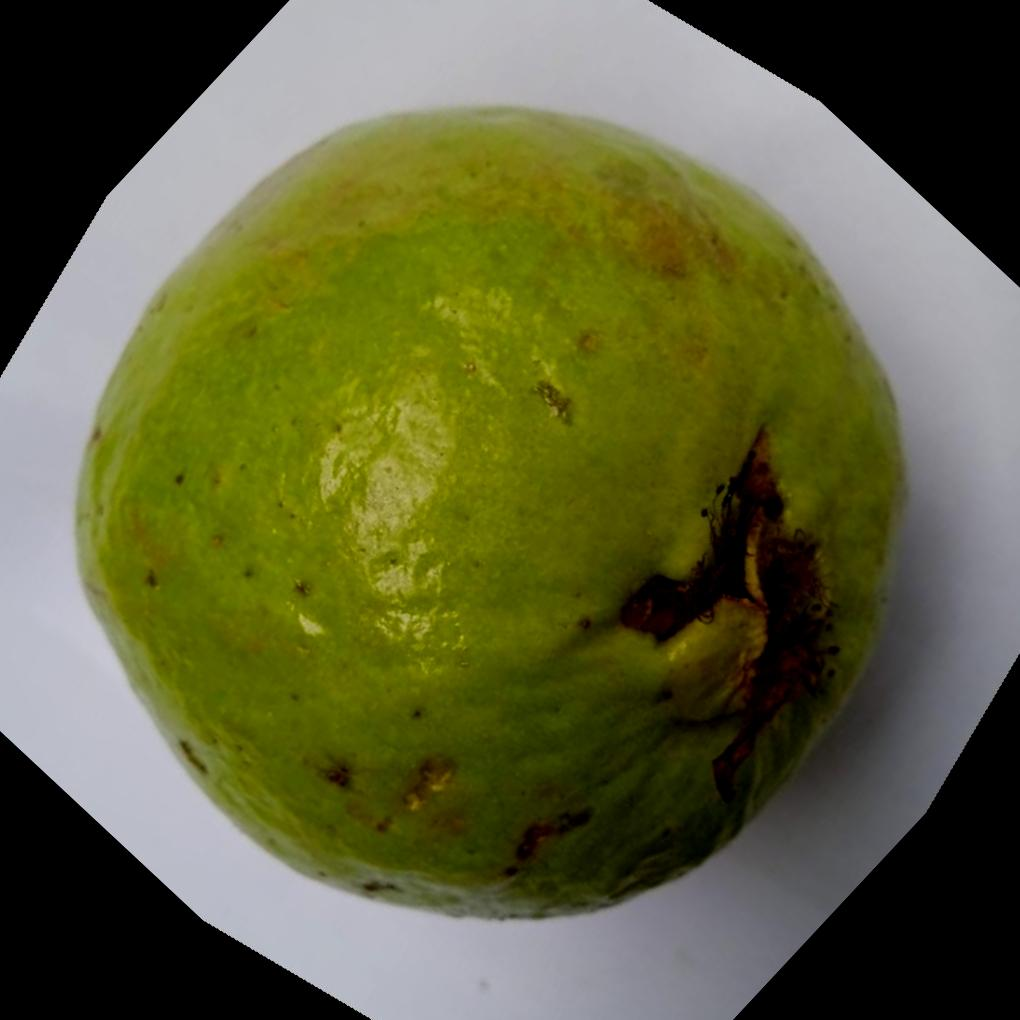FreshGuava: (68, 103, 904, 925)
